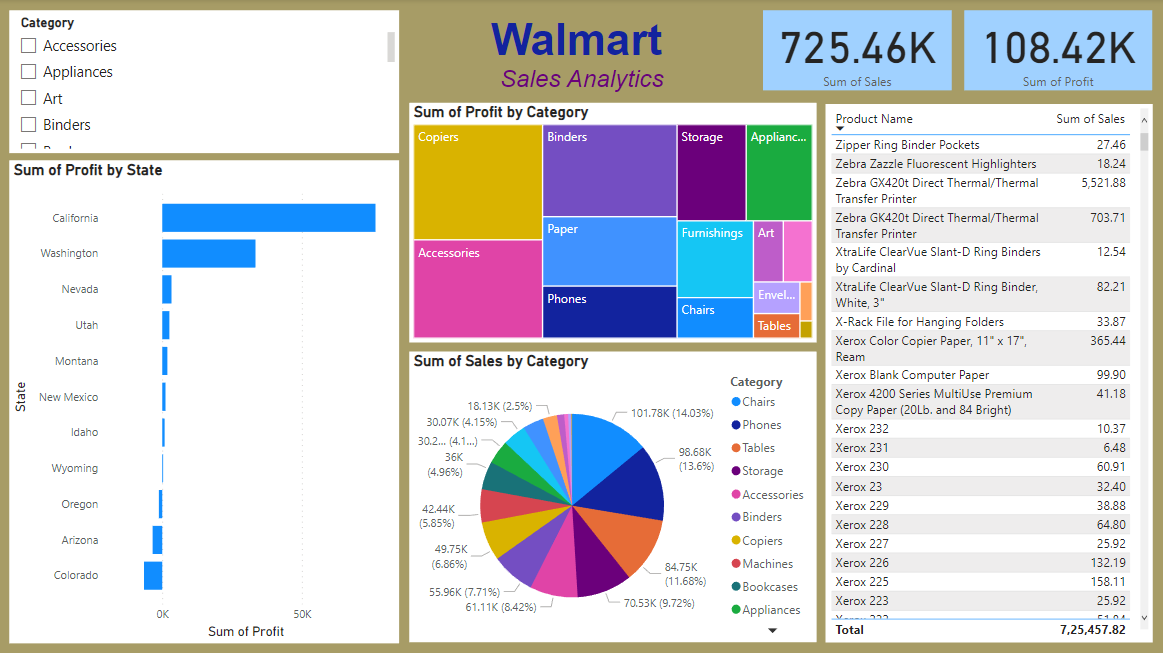

Layout of this report page (visuals, bound fields, positions):
{"tool":"powerbi","page":{"name":"Page 1","canvas":[1280,720],"ordinal":0},"visuals":[{"type":"barChart","fields":{"Y":["Sum(Walmart.Profit)"],"Category":["Walmart.State"]},"box":[12.1,177.3,428.1,530.7],"z":0},{"type":"treemap","fields":{"Group":["Walmart.Category"],"Values":["Sum(Walmart.Profit)"]},"box":[451.5,113.9,447.3,263.5],"z":1000},{"type":"pieChart","fields":{"Category":["Walmart.Category"],"Y":["Sum(Walmart.Sales)"]},"box":[451.1,387.1,447.4,319.6],"z":2000},{"type":"tableEx","fields":{"Values":["Walmart.Product Name","Sum(Walmart.Sales)"]},"box":[908.1,115.8,359.4,591],"z":3000},{"type":"card","fields":{"Values":["Sum(Walmart.Sales)"]},"box":[839.4,12.1,207.4,88],"z":4000},{"type":"card","fields":{"Values":["Sum(Walmart.Profit)"]},"box":[1061.3,12.1,206.2,88],"z":5000},{"type":"slicer","fields":{"Values":["Walmart.Category"]},"box":[12.1,12.1,428.1,156.8],"z":6000},{"type":"textbox","box":[451.1,12.1,378.7,96.5],"z":7000}]}

Visuals, with their boxes in screenshot pixels (x1, y1, x2, y2), scaled from the page's 1280x720 canvas onto the 1163x653 screenshot:
barChart - Sum(Walmart.Profit) x Walmart.State: bbox=[11, 161, 400, 642]
treemap - Walmart.Category x Sum(Walmart.Profit): bbox=[410, 103, 817, 342]
pieChart - Walmart.Category x Sum(Walmart.Sales): bbox=[410, 351, 816, 641]
tableEx - Walmart.Product Name x Sum(Walmart.Sales): bbox=[825, 105, 1152, 641]
card - Sum(Walmart.Sales): bbox=[763, 11, 951, 91]
card - Sum(Walmart.Profit): bbox=[964, 11, 1152, 91]
slicer - Walmart.Category: bbox=[11, 11, 400, 153]
textbox: bbox=[410, 11, 754, 98]
